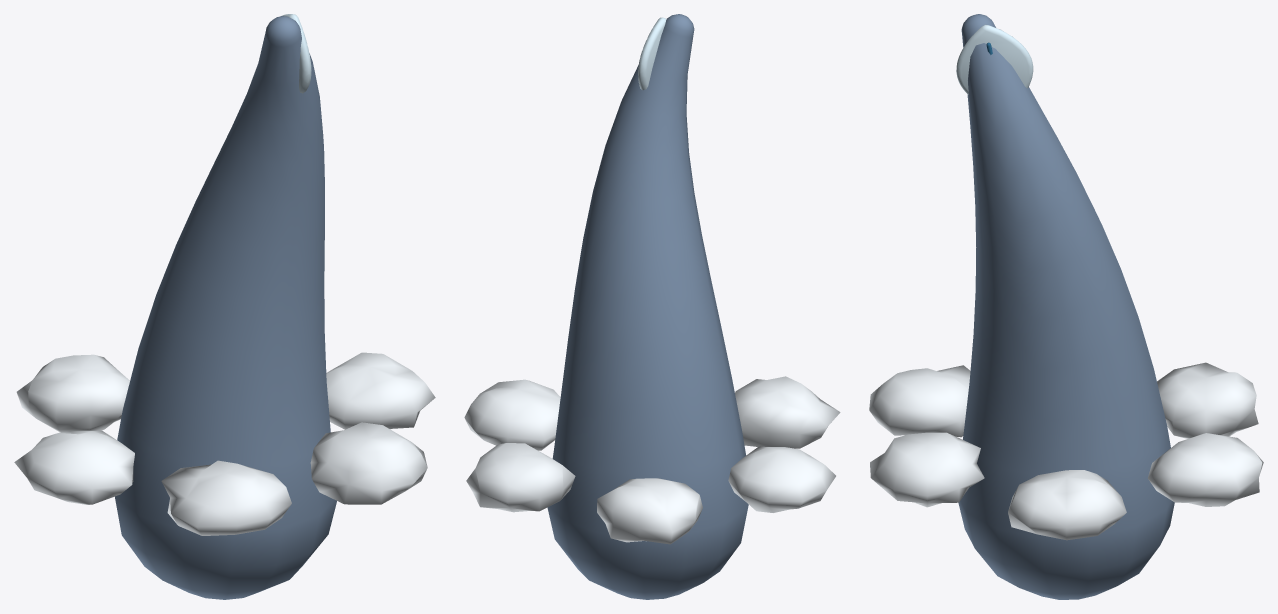
File: Boss_Gardien_Glaciers_Glace_Projectile_Vague.fbx
3 views of the same model, side by side, from view 1: azimuth 30°, elevation 25°; view 2: azimuth 150°, elevation 25°; view 3: azimuth 270°, elevation 25° (orthographic). The views are drawn at different scales.
Visible parts, largest first — view 1: Boss_Gardien_Glaciers_Glace_Projectile_Vague; view 2: Boss_Gardien_Glaciers_Glace_Projectile_Vague; view 3: Boss_Gardien_Glaciers_Glace_Projectile_Vague.
Part boxes in pixels (<box>): Boss_Gardien_Glaciers_Glace_Projectile_Vague: <box>14,14,435,599</box>; Boss_Gardien_Glaciers_Glace_Projectile_Vague: <box>464,14,840,599</box>; Boss_Gardien_Glaciers_Glace_Projectile_Vague: <box>869,14,1263,599</box>.
Size of the model in its own units: 1.5 by 2.19 by 1.35.
1 material, 1 textured.
